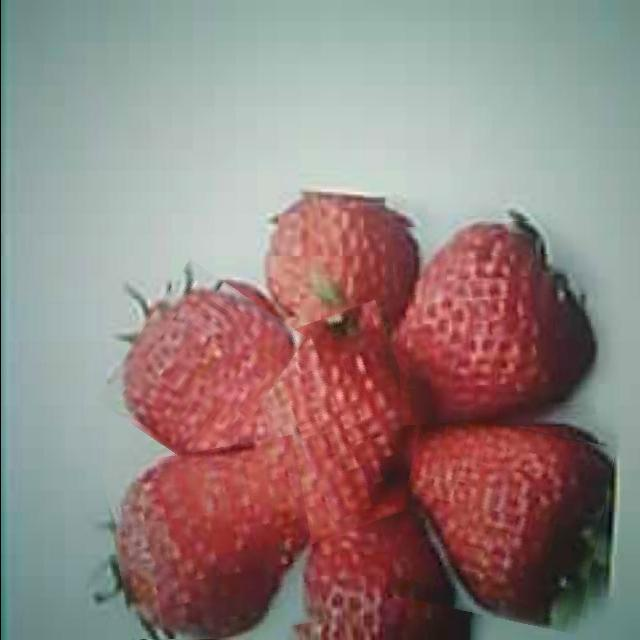strawberry: (392, 416, 606, 625), (108, 443, 317, 640), (393, 220, 592, 423), (255, 309, 430, 535), (112, 272, 288, 466)
